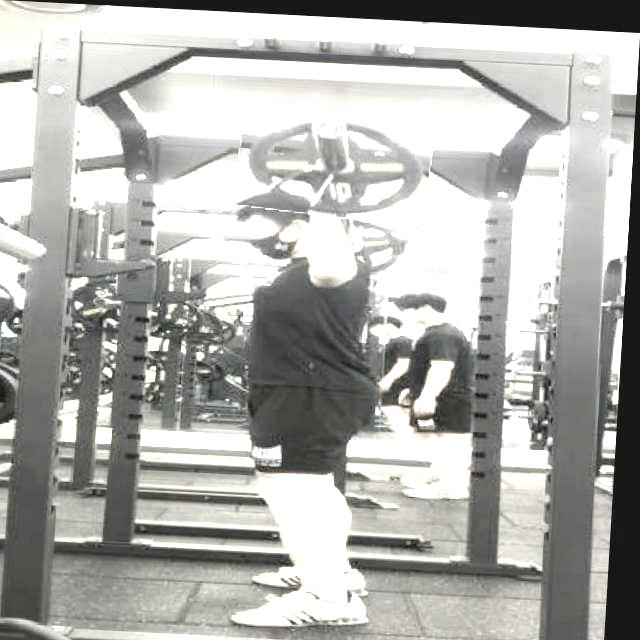barbell: (237, 100, 435, 221)
